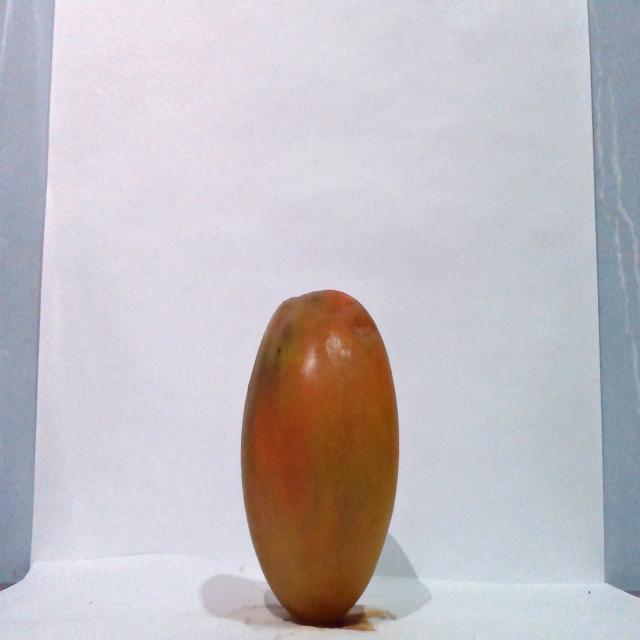Red: (238, 287, 400, 625)
